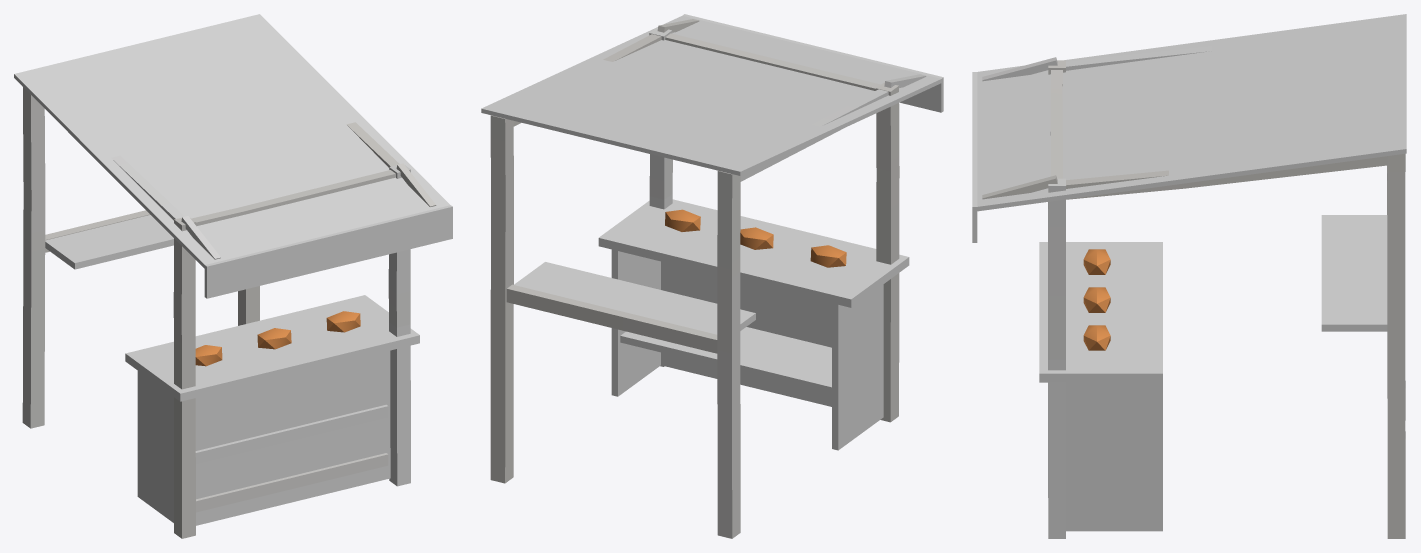
File: Kit_RealStall_StallA_Fractured.fbx
3 renders of one model, left to right at view 1: azimuth 30°, elevation 25°; view 2: azimuth 150°, elevation 25°; view 3: azimuth 270°, elevation 25°, orthographic. The views are drawn at different scales.
Parts seen in each view (by area): view 1: Kit_RealStall_StallA_frag_01, Kit_RealStall_StallA_frag_06, Kit_RealStall_StallA_frag_07, Kit_RealStall_StallA_frag_08, Kit_RealStall_StallA_frag_02, Kit_RealStall_StallA_frag_05, Kit_RealStall_StallA_frag_09, Kit_RealStall_StallA_frag_03, Kit_RealStall_StallA_frag_04; view 2: Kit_RealStall_StallA_frag_05, Kit_RealStall_StallA_frag_01, Kit_RealStall_StallA_frag_06, Kit_RealStall_StallA_frag_08, Kit_RealStall_StallA_frag_07, Kit_RealStall_StallA_frag_09, Kit_RealStall_StallA_frag_02, Kit_RealStall_StallA_frag_03, Kit_RealStall_StallA_frag_04; view 3: Kit_RealStall_StallA_frag_08, Kit_RealStall_StallA_frag_07, Kit_RealStall_StallA_frag_02, Kit_RealStall_StallA_frag_06, Kit_RealStall_StallA_frag_09, Kit_RealStall_StallA_frag_05, Kit_RealStall_StallA_frag_04, Kit_RealStall_StallA_frag_03.
Part boxes in pixels (x1,y1,x2,y2): Kit_RealStall_StallA_frag_01: (137,371,388,538); Kit_RealStall_StallA_frag_06: (108,138,331,379); Kit_RealStall_StallA_frag_07: (234,108,452,327); Kit_RealStall_StallA_frag_08: (14,33,275,171); Kit_RealStall_StallA_frag_02: (291,322,410,502); Kit_RealStall_StallA_frag_05: (22,87,259,428); Kit_RealStall_StallA_frag_09: (182,14,353,127); Kit_RealStall_StallA_frag_03: (125,324,302,401); Kit_RealStall_StallA_frag_04: (247,295,419,371); Kit_RealStall_StallA_frag_05: (490,170,755,538); Kit_RealStall_StallA_frag_01: (740,249,899,450); Kit_RealStall_StallA_frag_06: (708,45,943,254); Kit_RealStall_StallA_frag_08: (563,82,839,181); Kit_RealStall_StallA_frag_07: (581,14,811,199); Kit_RealStall_StallA_frag_09: (481,62,661,298); Kit_RealStall_StallA_frag_02: (611,194,765,396); Kit_RealStall_StallA_frag_03: (740,226,909,307); Kit_RealStall_StallA_frag_04: (598,199,780,274); Kit_RealStall_StallA_frag_08: (1194,14,1406,134); Kit_RealStall_StallA_frag_07: (972,111,1229,359); Kit_RealStall_StallA_frag_02: (1048,360,1162,538); Kit_RealStall_StallA_frag_06: (972,42,1212,140); Kit_RealStall_StallA_frag_09: (1194,106,1406,341); Kit_RealStall_StallA_frag_05: (1321,165,1405,538); Kit_RealStall_StallA_frag_04: (1039,308,1162,382); Kit_RealStall_StallA_frag_03: (1039,242,1162,312).
Size of what is drawn, in the model's own units: 1.6 by 2.18 by 2.17.
